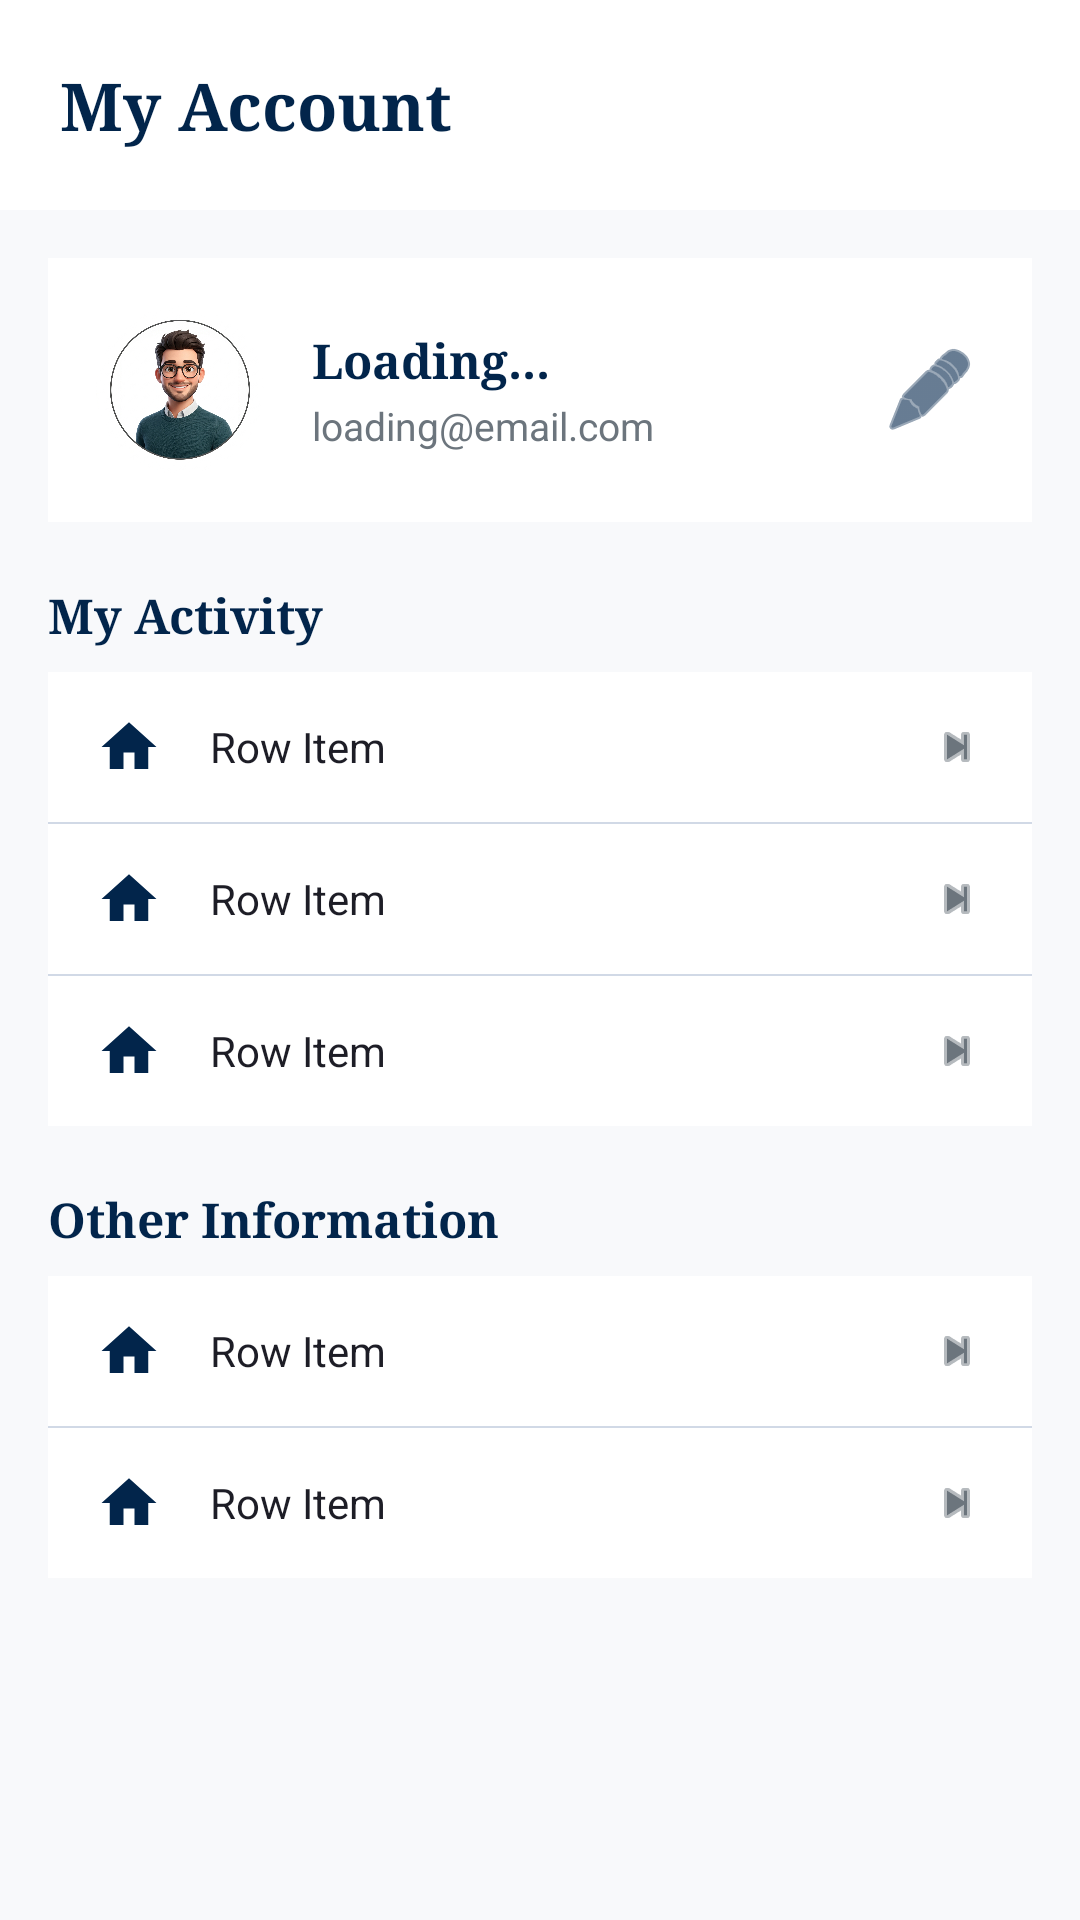

Icon bounding boxes for this 1080x1920 phone screenshot, format (x1=x1, y1=y1, x2=x2, y2=y2):
edit: (x1=889, y1=349, x2=970, y2=430)
home: (x1=102, y1=722, x2=156, y2=769), (x1=102, y1=874, x2=156, y2=921), (x1=102, y1=1026, x2=156, y2=1073), (x1=102, y1=1326, x2=156, y2=1373), (x1=102, y1=1478, x2=156, y2=1525)
next: (x1=944, y1=732, x2=970, y2=762), (x1=944, y1=884, x2=970, y2=914), (x1=944, y1=1036, x2=970, y2=1066), (x1=944, y1=1336, x2=970, y2=1366), (x1=944, y1=1488, x2=970, y2=1518)
